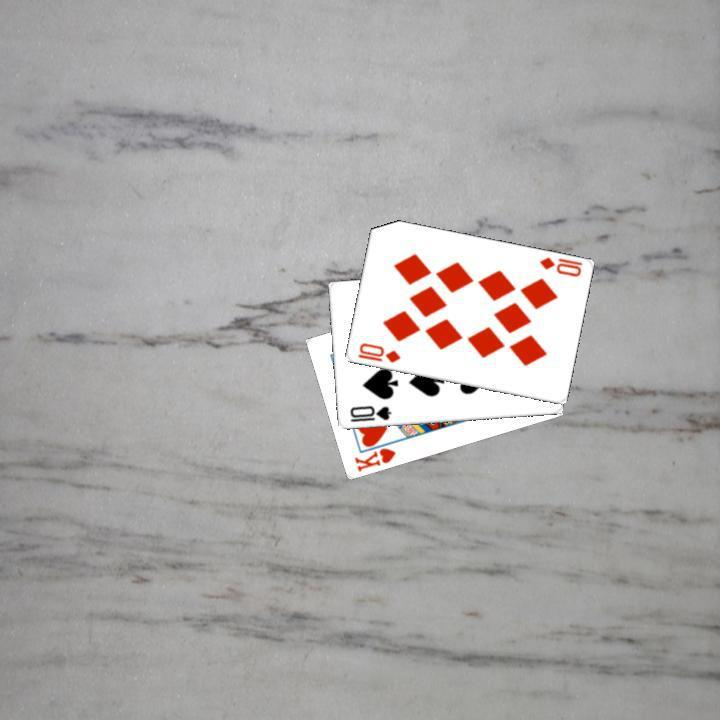10: (535, 252, 584, 279), (353, 339, 402, 365), (345, 402, 393, 424)
K: (350, 444, 398, 474)
